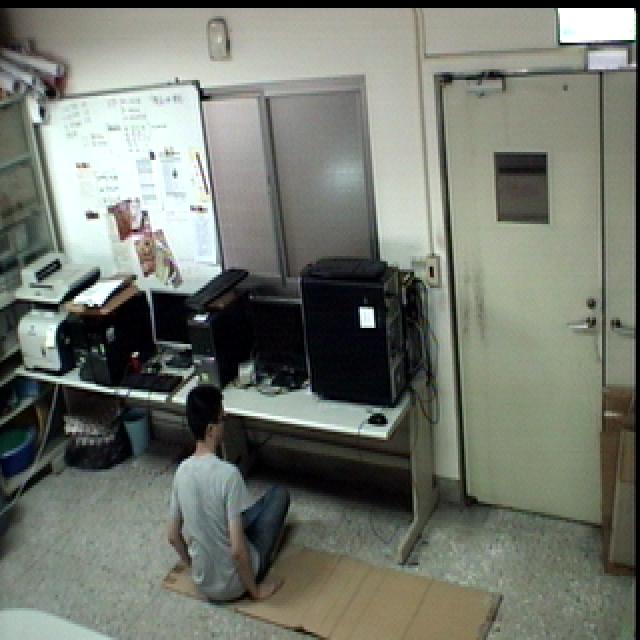sit: (164, 377, 295, 610)
